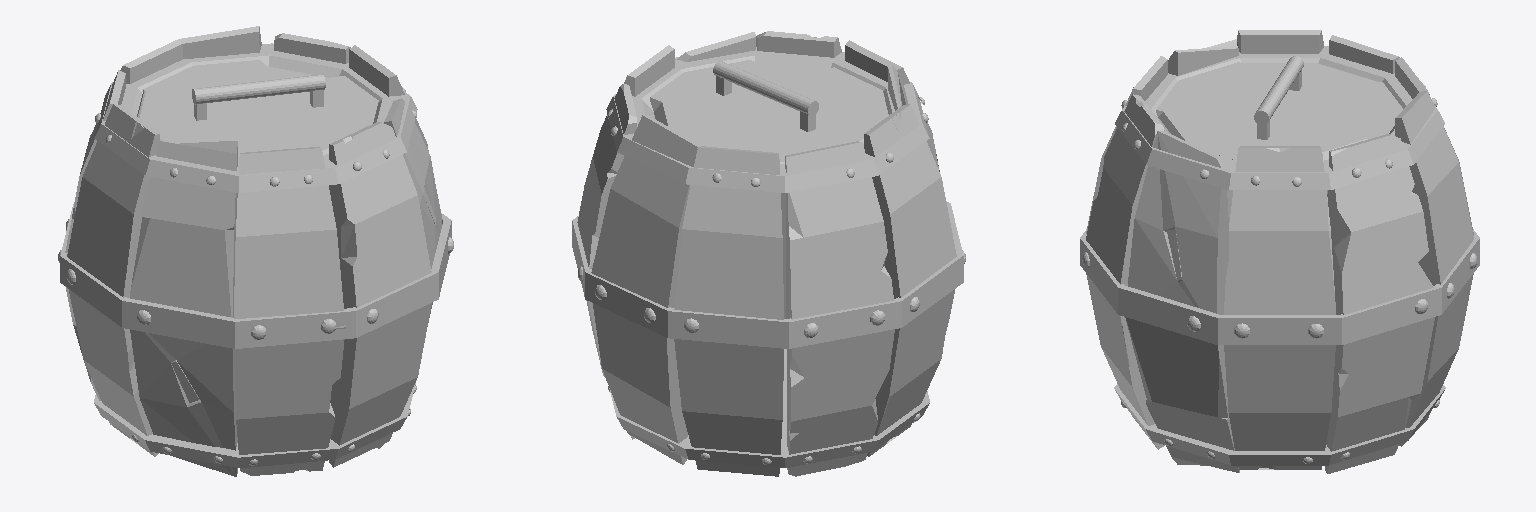
Rendered from TrashTactics_Barrel.obj.
The picture shows the model from 3 angles: view 1: azimuth 30°, elevation 25°; view 2: azimuth 150°, elevation 25°; view 3: azimuth 270°, elevation 25°; orthographic projection.
Visible parts, largest first — view 1: Barrel_Planks polySurface23, polySurface22 Barrel_Planks, Barrel_Planks polySurface9, polySurface20 polySurface4 polySurface2 pCylinder1, Barrel_Supports pCylinder4, pCylinder2 Barrel_Supports, pCylinder5 Barrel_Lid, Barrel_Lid pCylinder7, Barrel_Supports pCylinder3, Barrel_Planks polySurface7, Barrel_Lid pCylinder8, Barrel_Planks polySurface1 (+4 smaller); view 2: Barrel_Planks polySurface17, polySurface2 pCylinder1 polySurface21, Barrel_Planks polySurface1, polySurface20 polySurface4 polySurface2 pCylinder1, Barrel_Supports pCylinder4, pCylinder2 Barrel_Supports, pCylinder5 Barrel_Lid, Barrel_Lid pCylinder7, Barrel_Supports pCylinder3, polySurface2 pCylinder1 polySurface3, Barrel_Planks polySurface9, Barrel_Lid pCylinder8 (+4 smaller); view 3: polySurface4 polySurface2 pCylinder1 polySurface5, polySurface2 pCylinder1 polySurface3, Barrel_Planks polySurface7, Barrel_Supports pCylinder4, Barrel_Planks polySurface1, Barrel_Planks polySurface9, pCylinder2 Barrel_Supports, pCylinder5 Barrel_Lid, Barrel_Lid pCylinder7, Barrel_Supports pCylinder3, polySurface20 polySurface4 polySurface2 pCylinder1, polySurface22 Barrel_Planks (+4 smaller).
Part boxes in pixels (left/top/right/bottom): Barrel_Planks polySurface23: left=234, top=147, right=345, bottom=475; polySurface22 Barrel_Planks: left=130, top=141, right=237, bottom=476; Barrel_Planks polySurface9: left=329, top=122, right=431, bottom=467; polySurface20 polySurface4 polySurface2 pCylinder1: left=67, top=104, right=159, bottom=456; Barrel_Supports pCylinder4: left=60, top=204, right=451, bottom=348; pCylinder2 Barrel_Supports: left=94, top=43, right=417, bottom=192; pCylinder5 Barrel_Lid: left=137, top=62, right=266, bottom=162; Barrel_Lid pCylinder7: left=241, top=60, right=378, bottom=155; Barrel_Supports pCylinder3: left=94, top=380, right=416, bottom=467; Barrel_Planks polySurface7: left=377, top=98, right=442, bottom=448; Barrel_Lid pCylinder8: left=192, top=74, right=325, bottom=104; Barrel_Planks polySurface1: left=179, top=26, right=261, bottom=58; Barrel_Planks polySurface17: left=674, top=146, right=783, bottom=476; polySurface2 pCylinder1 polySurface21: left=785, top=141, right=894, bottom=476; Barrel_Planks polySurface1: left=591, top=115, right=700, bottom=464; polySurface20 polySurface4 polySurface2 pCylinder1: left=864, top=104, right=956, bottom=456; Barrel_Supports pCylinder4: left=572, top=201, right=963, bottom=348; pCylinder2 Barrel_Supports: left=606, top=47, right=929, bottom=192; pCylinder5 Barrel_Lid: left=650, top=81, right=888, bottom=163; Barrel_Lid pCylinder7: left=651, top=60, right=884, bottom=136; Barrel_Supports pCylinder3: left=609, top=349, right=929, bottom=467; polySurface2 pCylinder1 polySurface3: left=577, top=84, right=636, bottom=439; Barrel_Planks polySurface9: left=756, top=31, right=841, bottom=318; Barrel_Lid pCylinder8: left=713, top=61, right=818, bottom=115; polySurface4 polySurface2 pCylinder1 polySurface5: left=1224, top=146, right=1335, bottom=469; polySurface2 pCylinder1 polySurface3: left=1325, top=134, right=1434, bottom=473; Barrel_Planks polySurface7: left=1125, top=131, right=1239, bottom=472; Barrel_Supports pCylinder4: left=1080, top=229, right=1479, bottom=344; Barrel_Planks polySurface1: left=1395, top=90, right=1473, bottom=446; Barrel_Planks polySurface9: left=1086, top=94, right=1164, bottom=449; pCylinder2 Barrel_Supports: left=1115, top=46, right=1444, bottom=189; pCylinder5 Barrel_Lid: left=1156, top=62, right=1402, bottom=159; Barrel_Lid pCylinder7: left=1156, top=92, right=1394, bottom=160; Barrel_Supports pCylinder3: left=1114, top=384, right=1445, bottom=465; polySurface20 polySurface4 polySurface2 pCylinder1: left=1237, top=30, right=1327, bottom=193; polySurface22 Barrel_Planks: left=1168, top=39, right=1238, bottom=222.
Bounding box in the file's own units: 121 × 119 × 124.